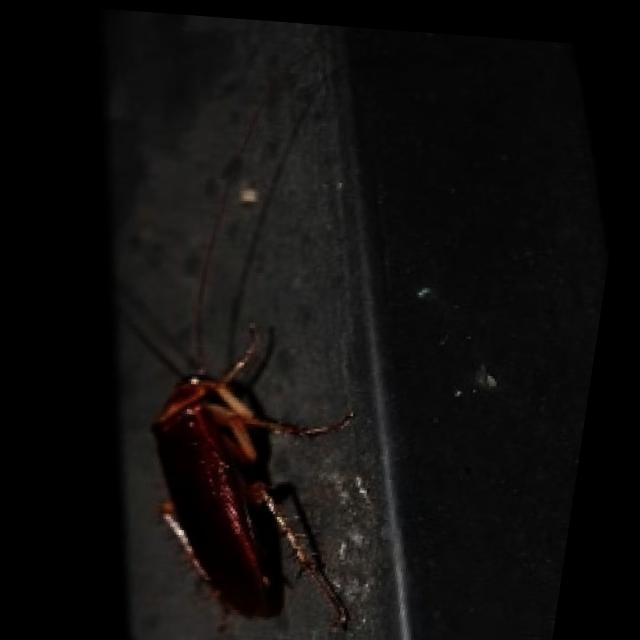cockroach: (111, 322, 368, 638)
